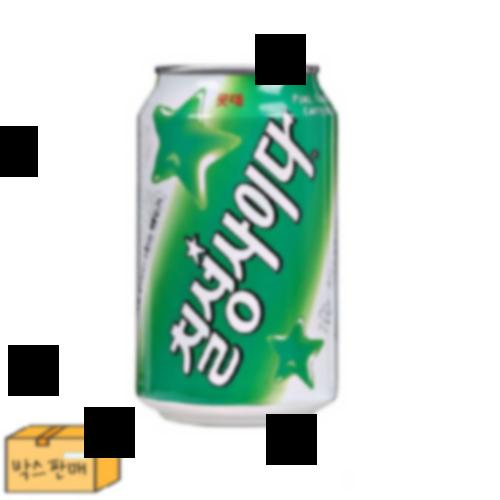chilsungcider: (119, 53, 356, 430)
